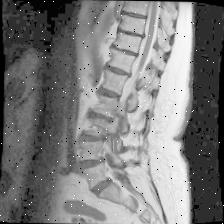disc: (96, 84, 124, 103), (117, 26, 147, 41), (120, 8, 150, 22)
hdisc: (75, 153, 110, 175), (86, 174, 117, 198), (102, 61, 134, 80), (107, 43, 141, 60)
